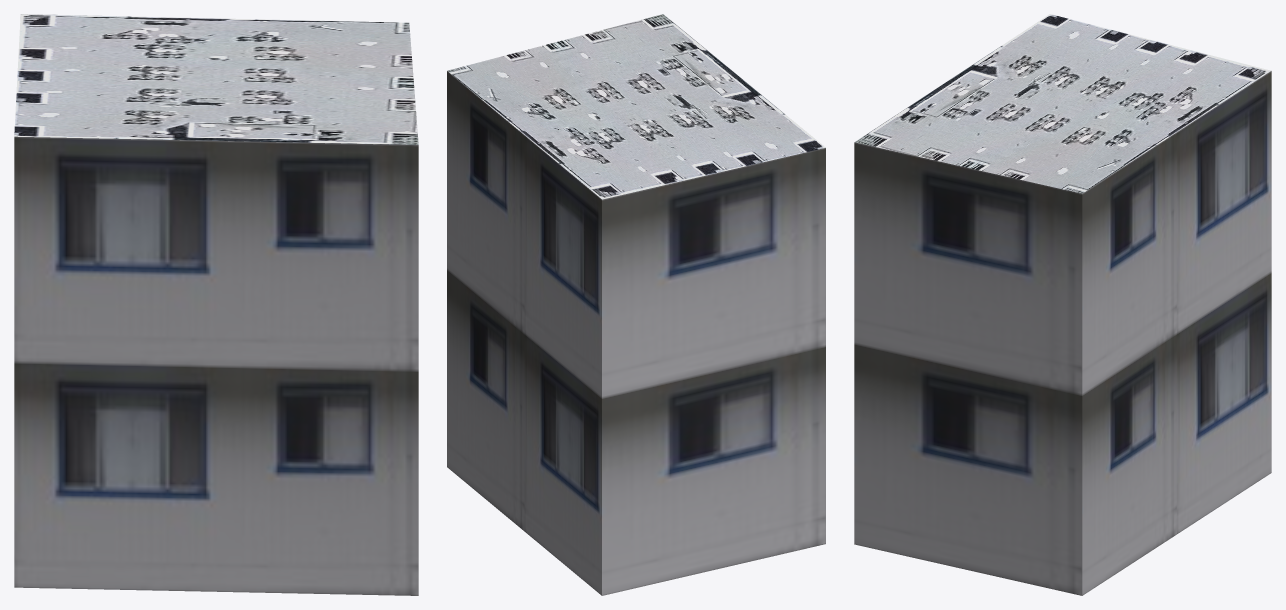
Rendered from ResTex__718.fbx.
The picture shows the model from 3 angles, left to right: view 1: azimuth 30°, elevation 25°; view 2: azimuth 150°, elevation 25°; view 3: azimuth 270°, elevation 25°; orthographic projection. The views are drawn at different scales.
Visible parts, largest first — view 1: CityEngineMaterial_9_m, CityEngineMaterial_4_m; view 2: CityEngineMaterial_9_m, CityEngineMaterial_4_m; view 3: CityEngineMaterial_9_m, CityEngineMaterial_4_m.
Part boxes in pixels (bbox=[...]): CityEngineMaterial_9_m: bbox=[14, 136, 418, 595]; CityEngineMaterial_4_m: bbox=[14, 14, 418, 144]; CityEngineMaterial_9_m: bbox=[447, 71, 825, 595]; CityEngineMaterial_4_m: bbox=[447, 14, 825, 199]; CityEngineMaterial_9_m: bbox=[854, 71, 1271, 595]; CityEngineMaterial_4_m: bbox=[855, 14, 1271, 193].
Bounding box in the file's own units: 5.75 × 6 × 5.64.
Materials: 2 (2 with a texture image).
